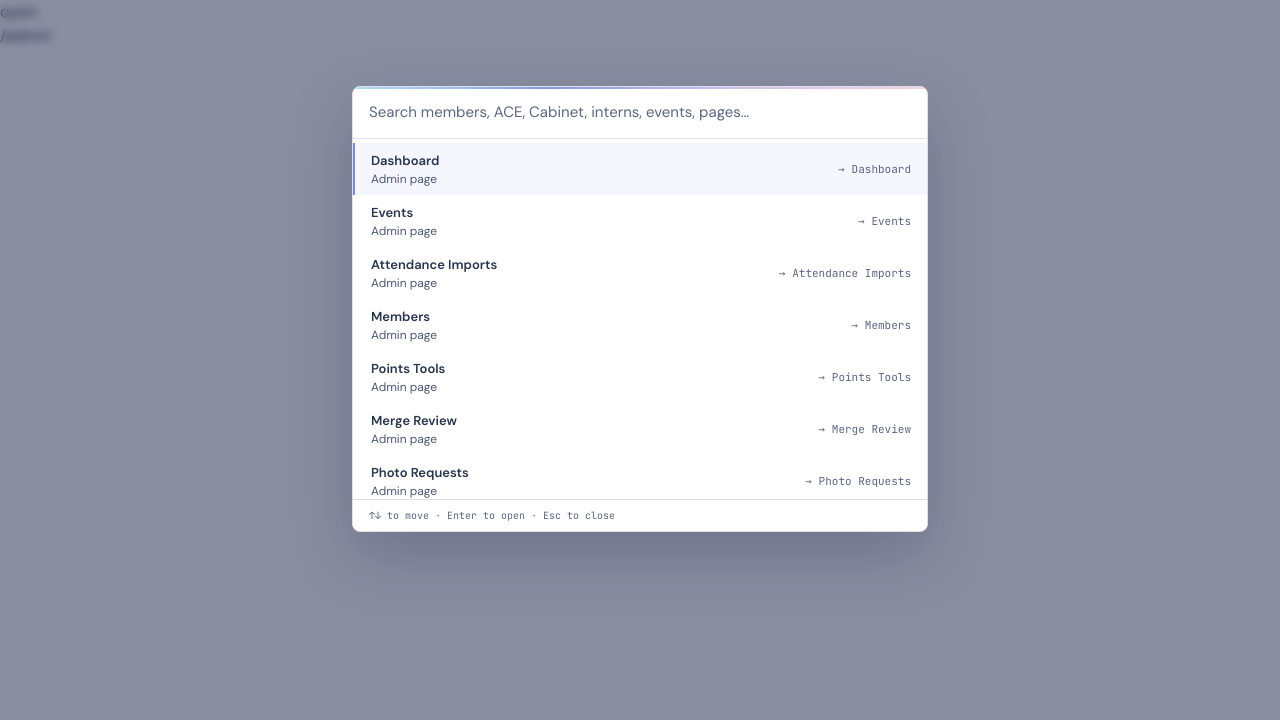
it: AdminQuickSearch › identifies each result by type and destination
This screenshot has width=1280, height=720.
Type "havyn" into the dropdown named "Search admin".
click(640, 113); type("havyn")  # box [353,87,927,139]
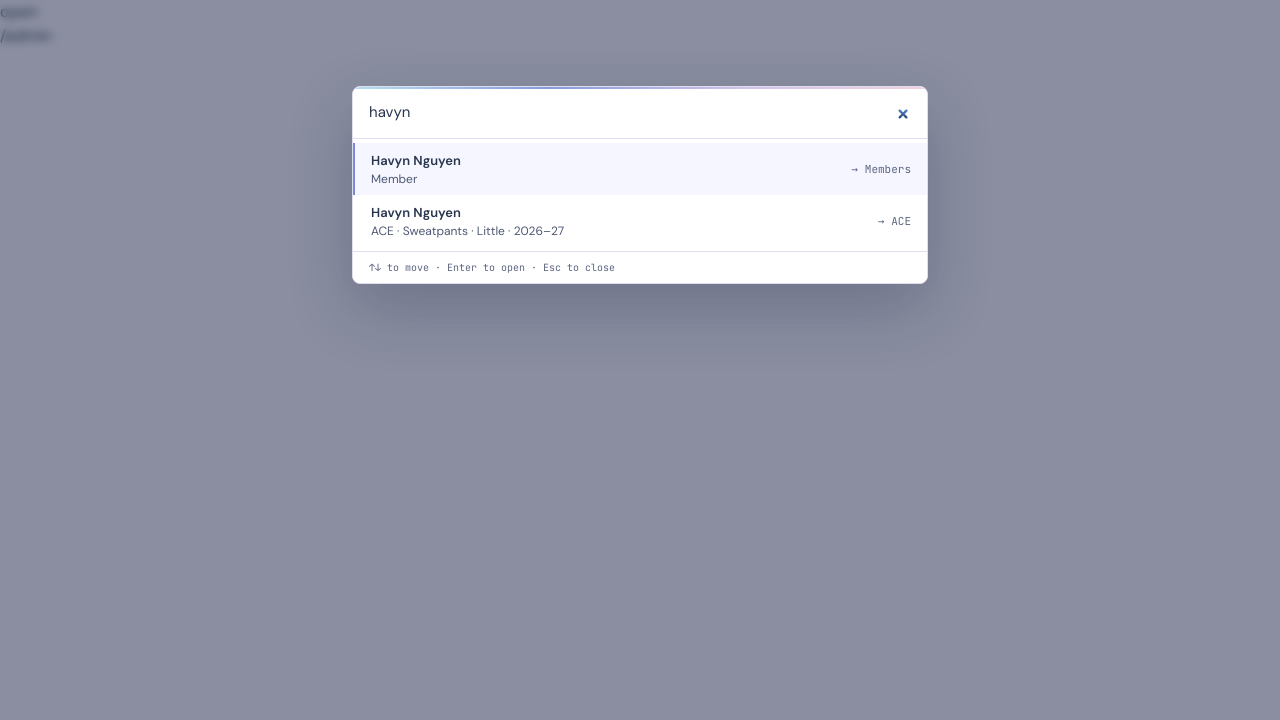
expect the number of options is 2: met, box [353,143,927,195]; [353,195,927,247]
expect the option "Havyn Nguyen Member → Members" is shown: met, box [353,143,927,195]
expect the option "Havyn Nguyen ACE · Sweatpants · Little · 2026–27 → ACE" is shown: met, box [353,195,927,247]
